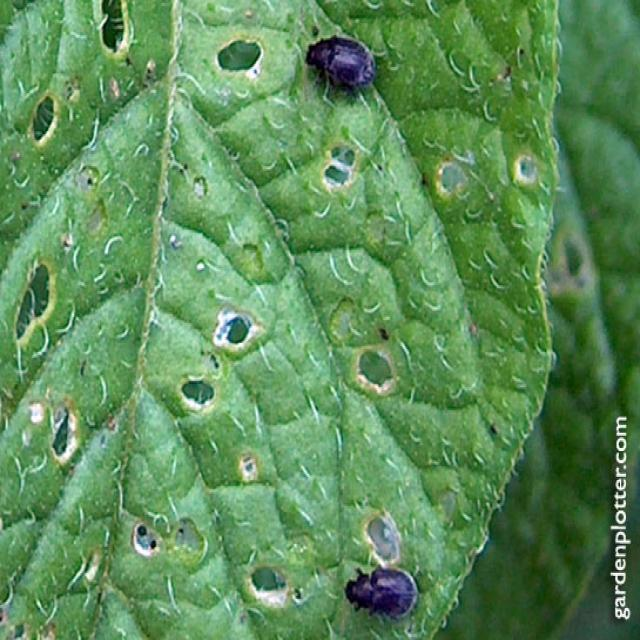flea_beetle: (271, 22, 389, 103), (326, 540, 430, 626)
